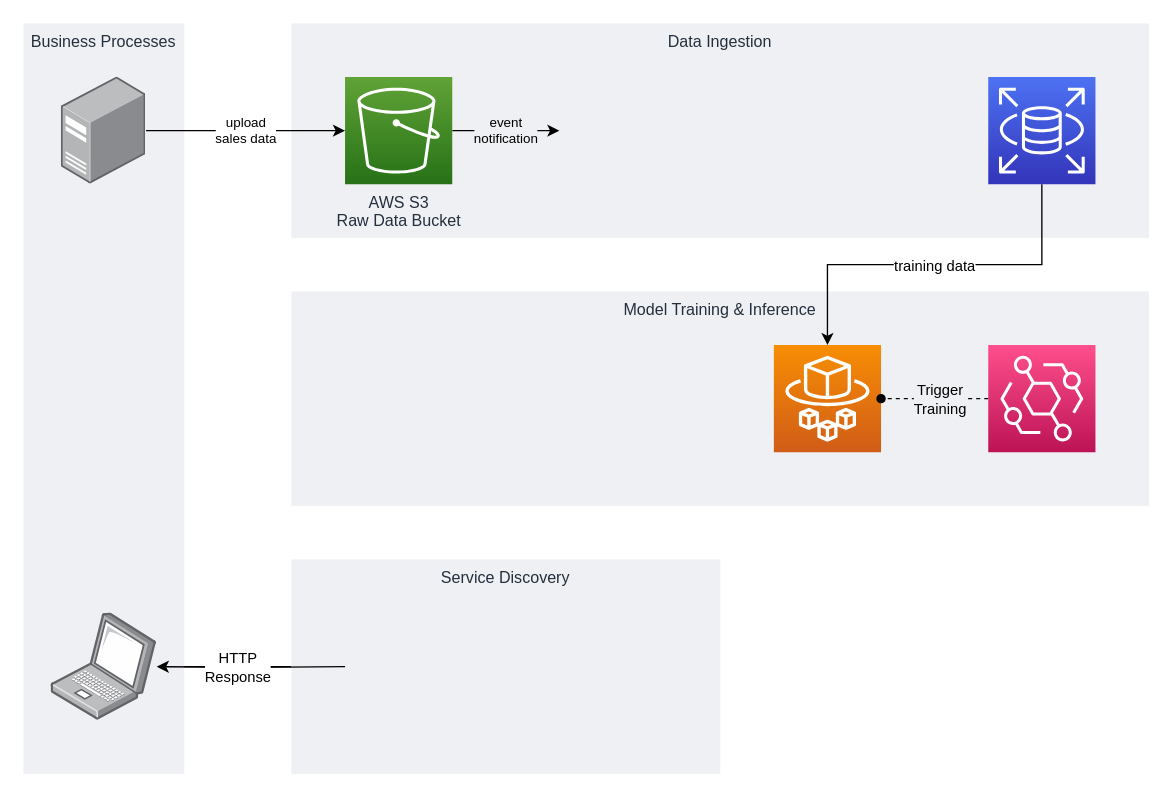
The diagram is 1171 pixels wide and 796 high, and some of its shapes have lost their labels. Here are the shapes that lost their labels. From the top down, the centre of each, then its label:
the point at 1041,130: AWS RDS Sales Data
the point at 827,398: AWS ECS (Fargate) Model Training
the point at 1041,398: AWS EventBridge Nightly Cron
